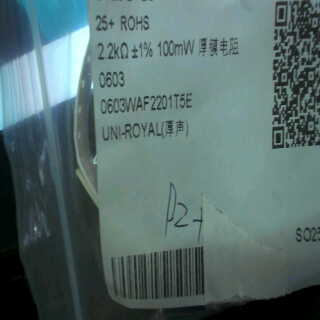2.2kR: (96, 37, 130, 61)
